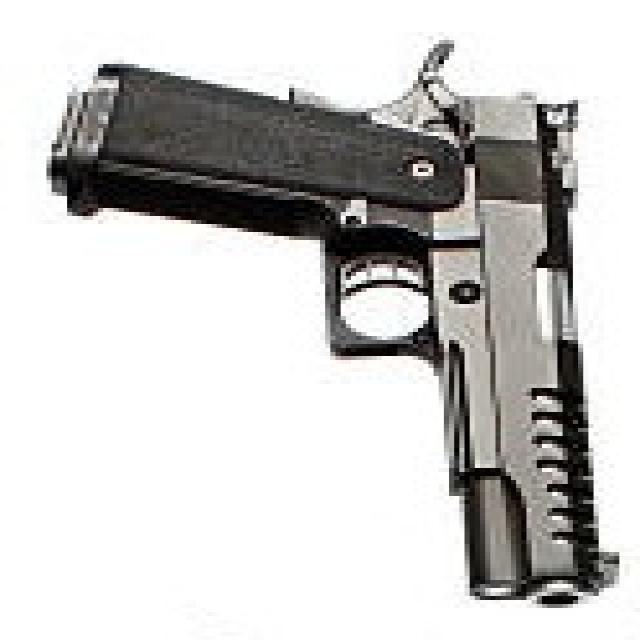pistol: (35, 31, 628, 619)
